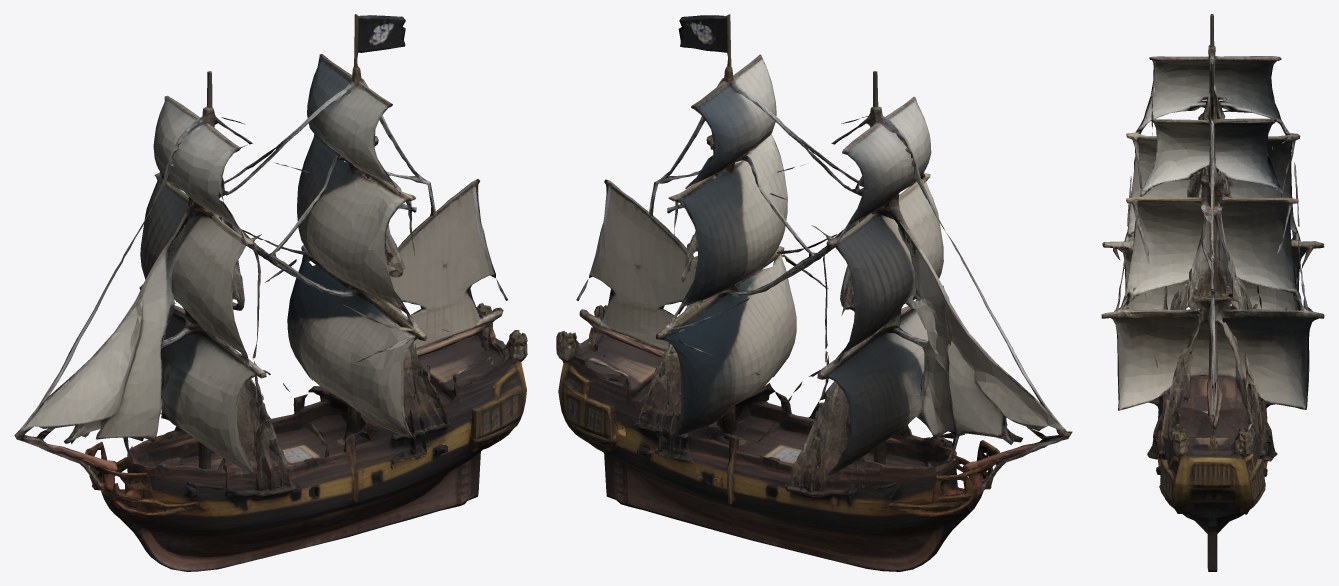
File: gemi-oyuncu.glb
The picture shows the model from 3 angles, left to right: view 1: azimuth 30°, elevation 25°; view 2: azimuth 150°, elevation 25°; view 3: azimuth 270°, elevation 25°; orthographic projection. The views are drawn at different scales.
Visible parts, largest first — view 1: world; view 2: world; view 3: world.
Part boxes in pixels (x1,y1,x2,y2): world: (14, 14, 527, 571); world: (556, 14, 1072, 571); world: (1101, 14, 1324, 571).
Bounding box in the file's own units: 0.9993 × 1 × 0.4321.
Materials: 1 (1 with a texture image).
